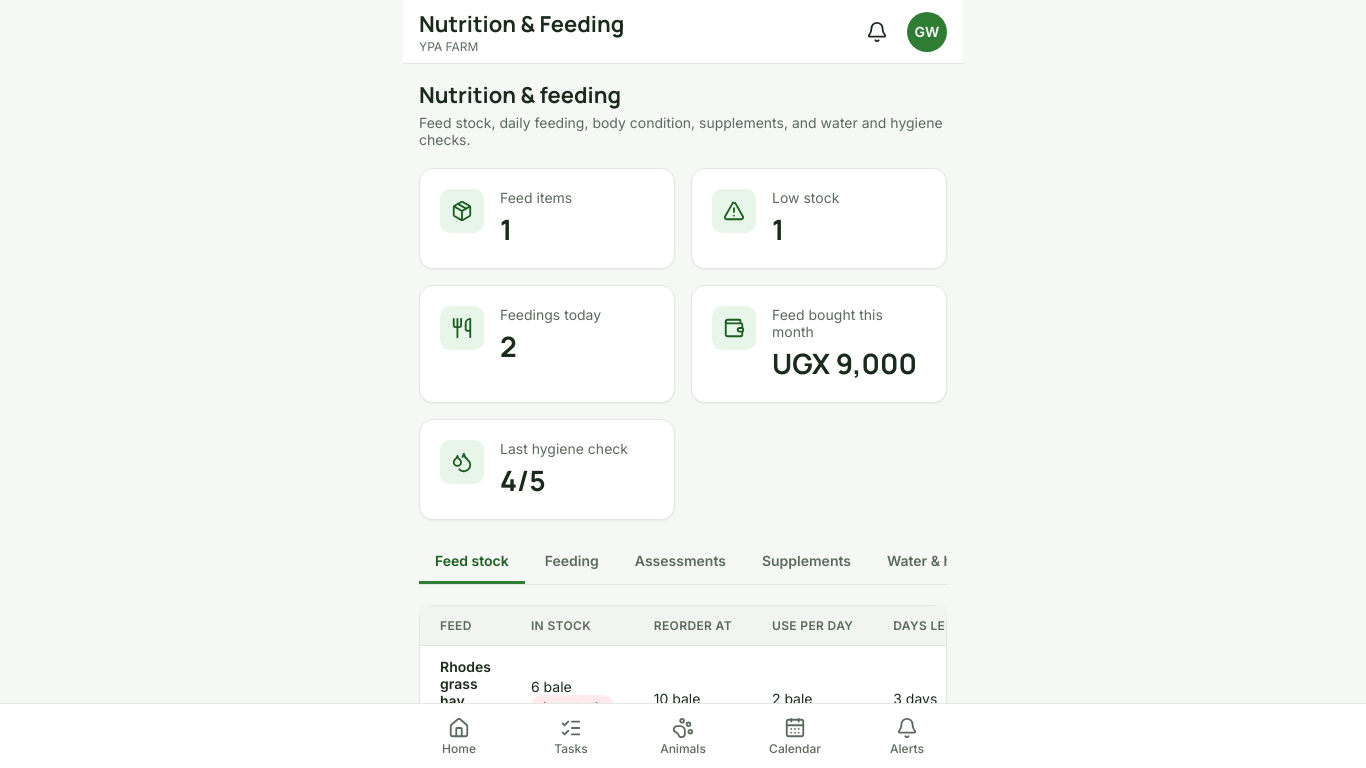
Test case: nutrition › lets attendants record feeding but not change stock
Check: the table is shown, box [420,606,946,751]
Click the link "Feeding": (572, 560) [545,552,599,569]
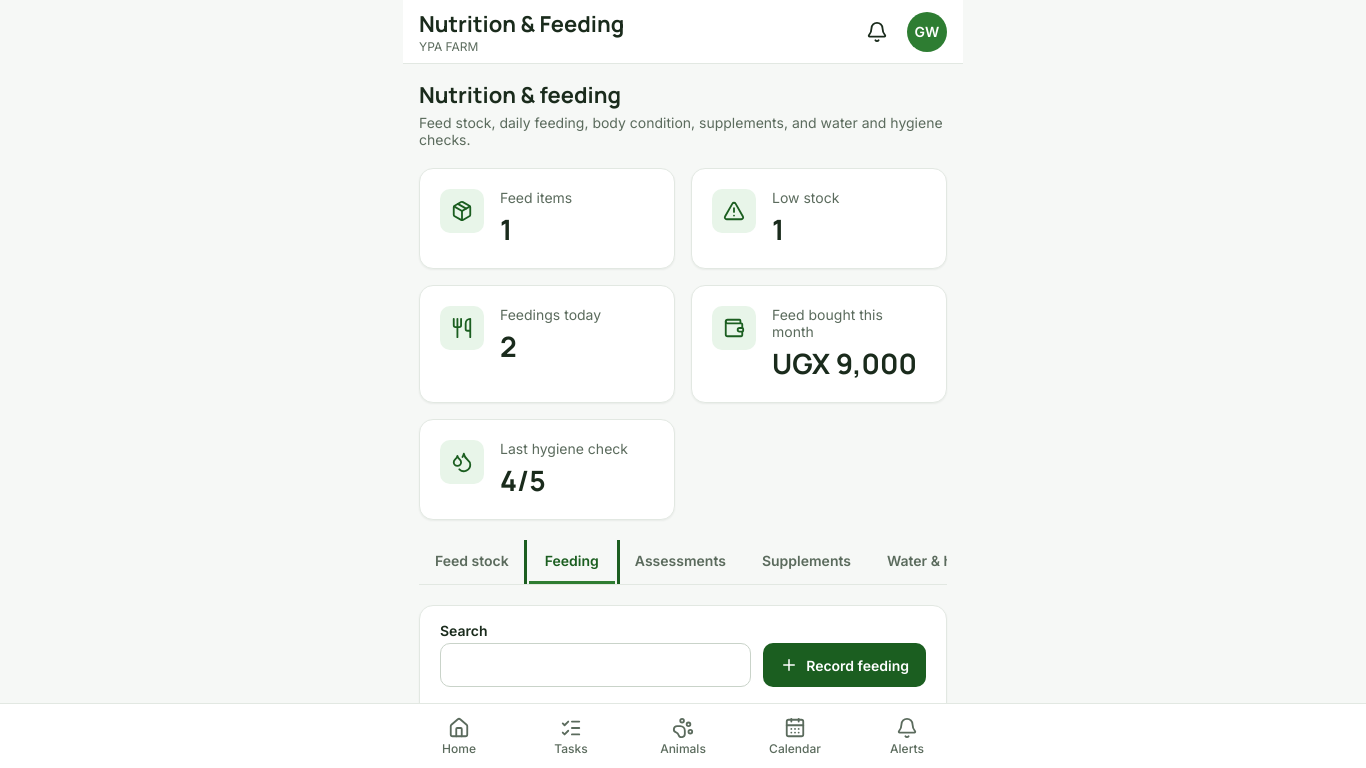
Click the button "Record feeding": (845, 665) [763,643,926,687]
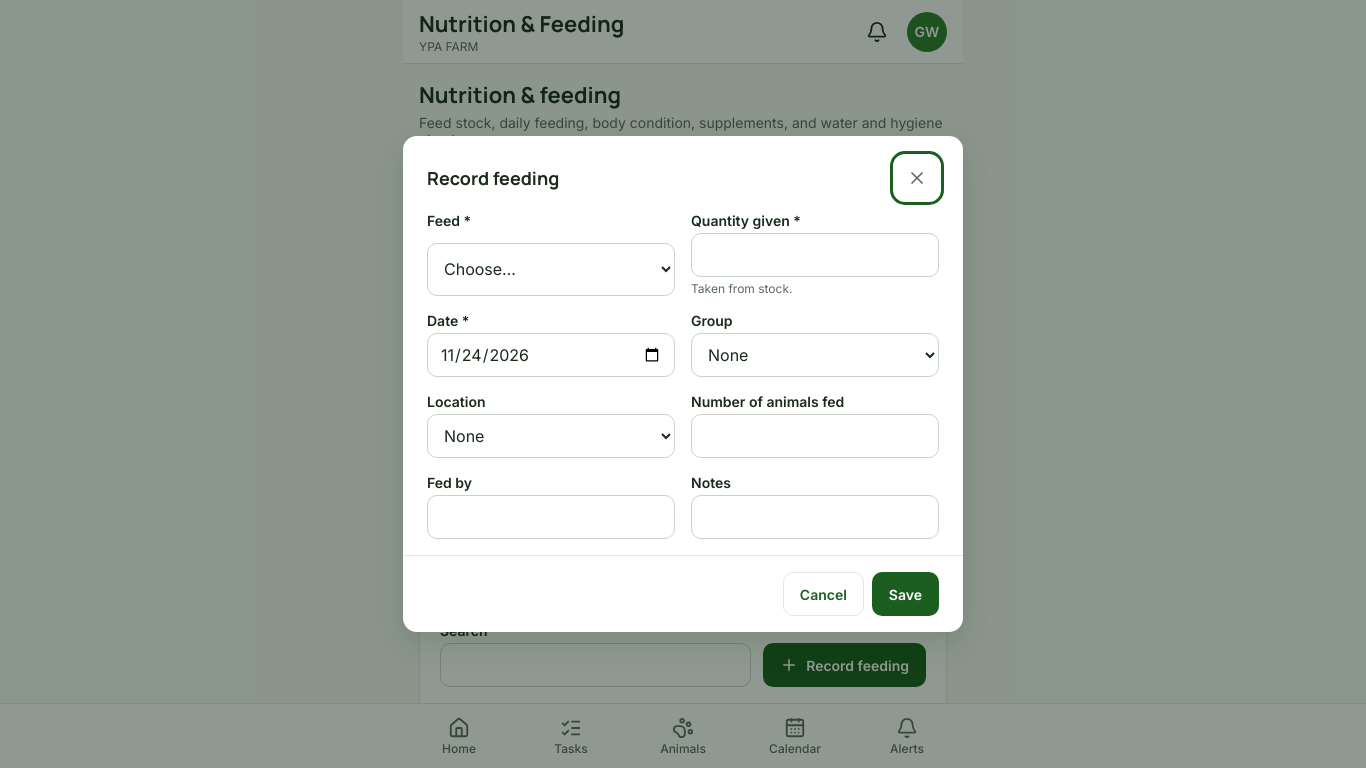
Select "Rhodes grass hay (6 bale in stock)" in the dropdown labelled "Feed *": (551, 269) [427,242,675,296]
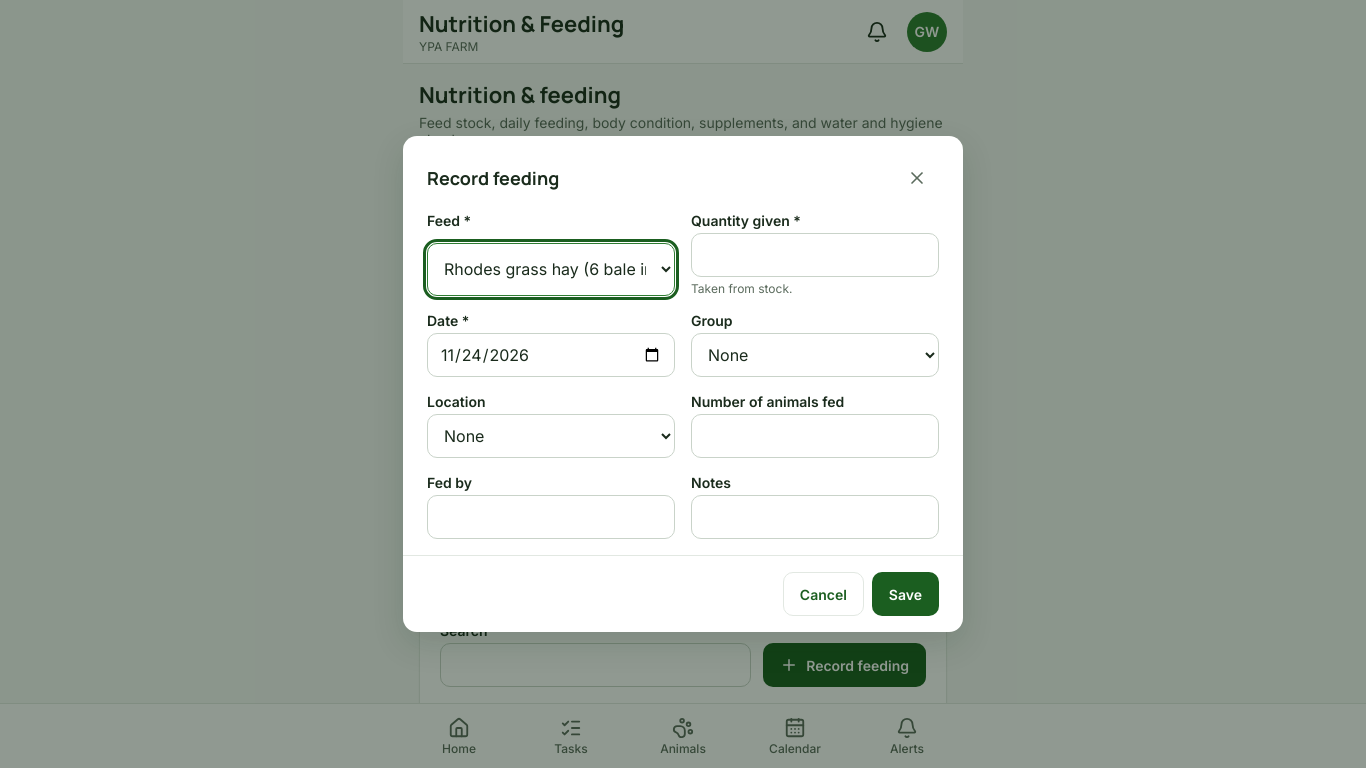
In the number field labelled "Quantity given *": (815, 255) [691,233,939,277], type "2"
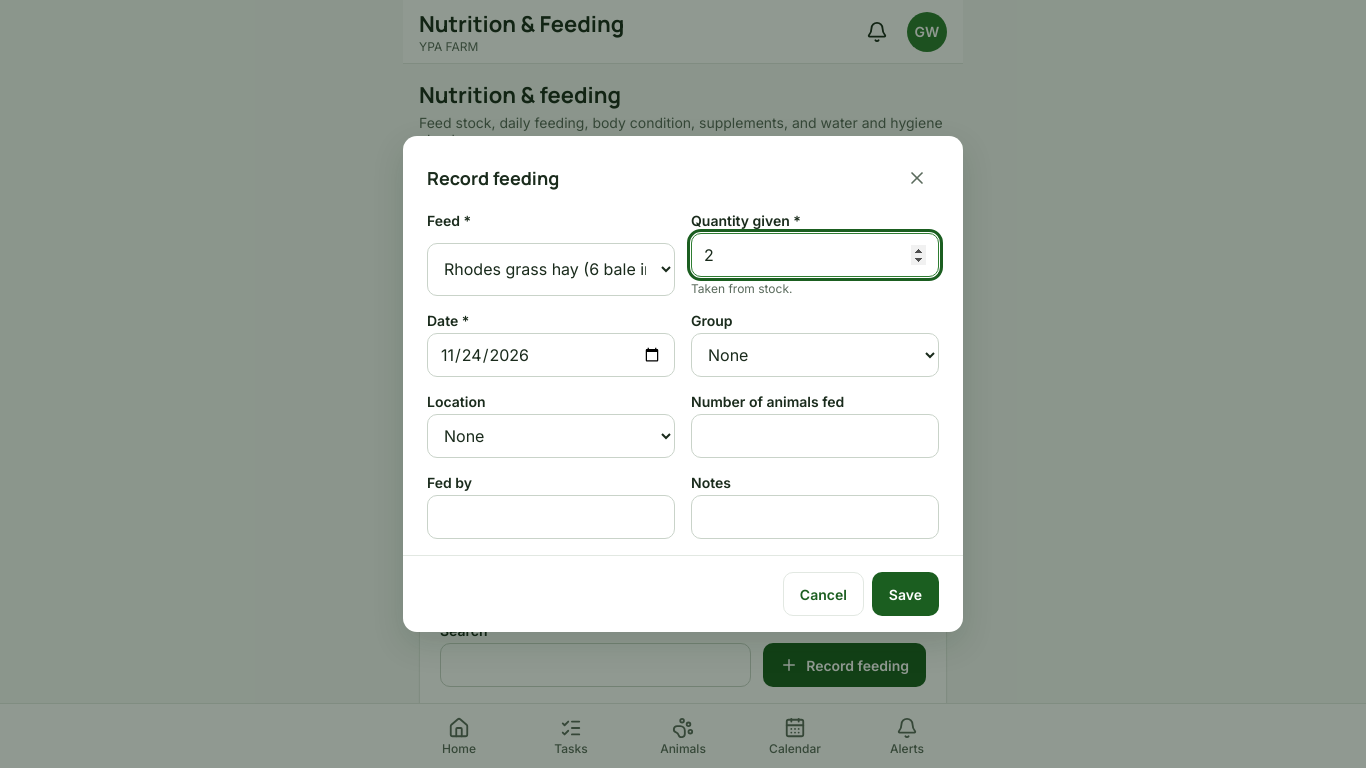
Click the button "Save": (905, 594) [872,572,939,616]
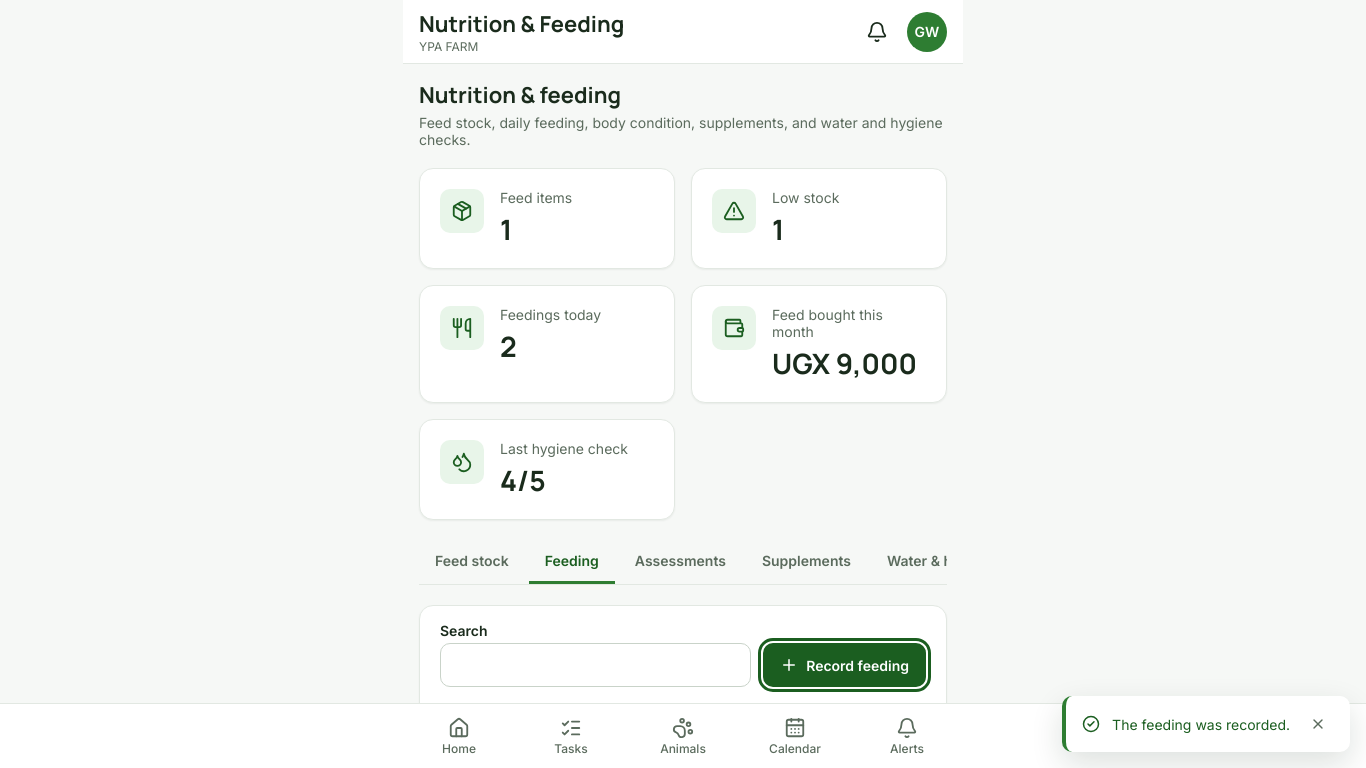
Check: the text "The feeding was recorded." is shown, box [1112,716,1290,732]
